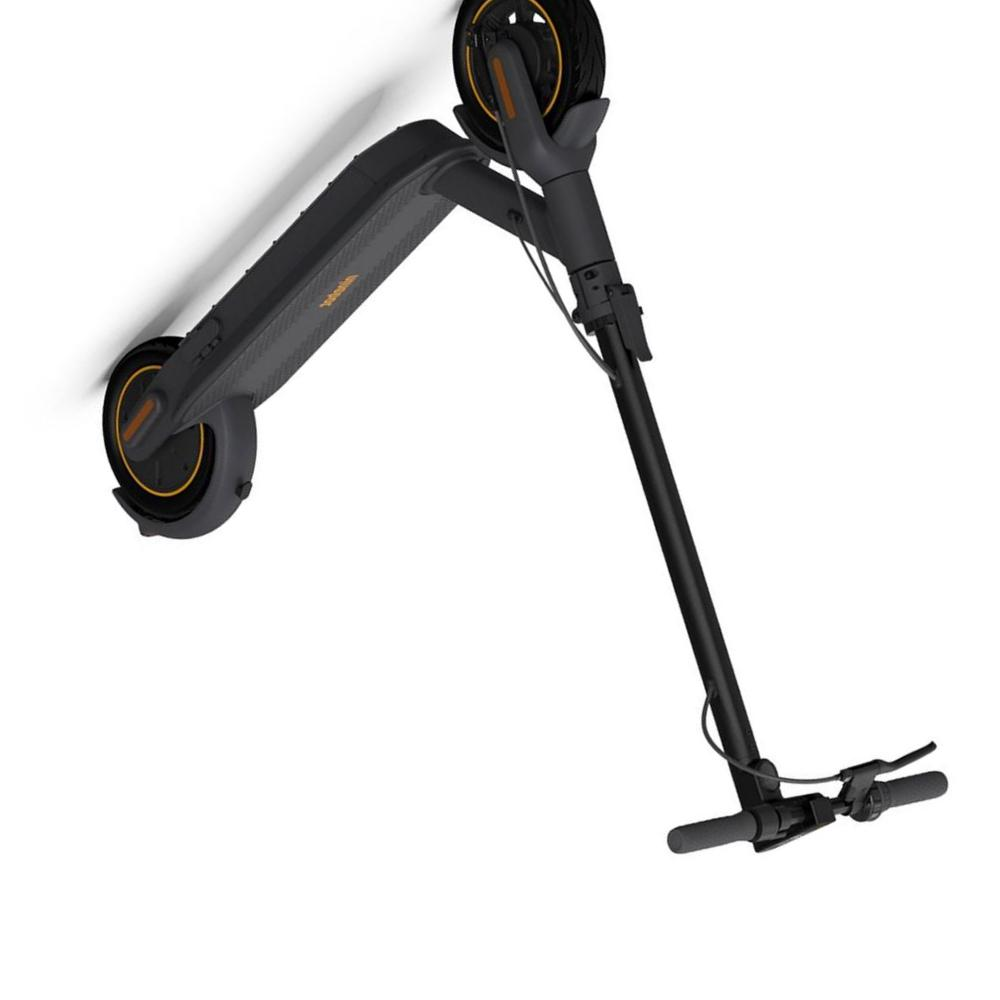scooter: (97, 1, 951, 858)
